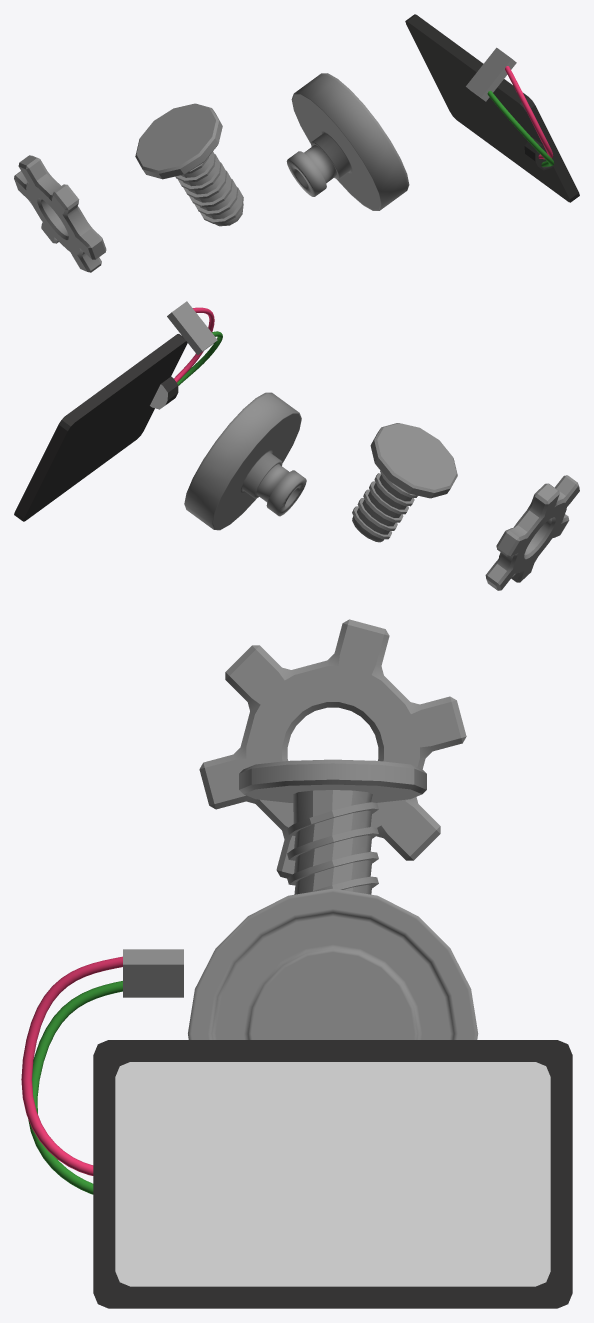
File: ObjetosRepuestos.fbx
3 renders of one model, top to bottom at view 1: azimuth 30°, elevation 25°; view 2: azimuth 150°, elevation 25°; view 3: azimuth 270°, elevation 25°, orthographic. The views are drawn at different scales.
Parts seen in each view (by area): view 1: Pantalla, Llanta, Tornillo, Engranaje; view 2: Pantalla, Llanta, Tornillo, Engranaje; view 3: Pantalla, Llanta, Engranaje, Tornillo.
Part boxes in pixels (x1,y1,x2,y2): Pantalla: (405, 14, 579, 202); Llanta: (286, 73, 409, 210); Tornillo: (135, 103, 243, 226); Engranaje: (14, 155, 106, 272); Pantalla: (14, 301, 222, 521); Llanta: (184, 392, 306, 530); Tornillo: (352, 423, 457, 542); Engranaje: (485, 475, 579, 590); Pantalla: (21, 949, 572, 1308); Llanta: (188, 888, 478, 1039); Engranaje: (199, 619, 466, 878); Tornillo: (239, 759, 426, 894).
Bounding box in the file's own units: 342 × 107 × 166.
